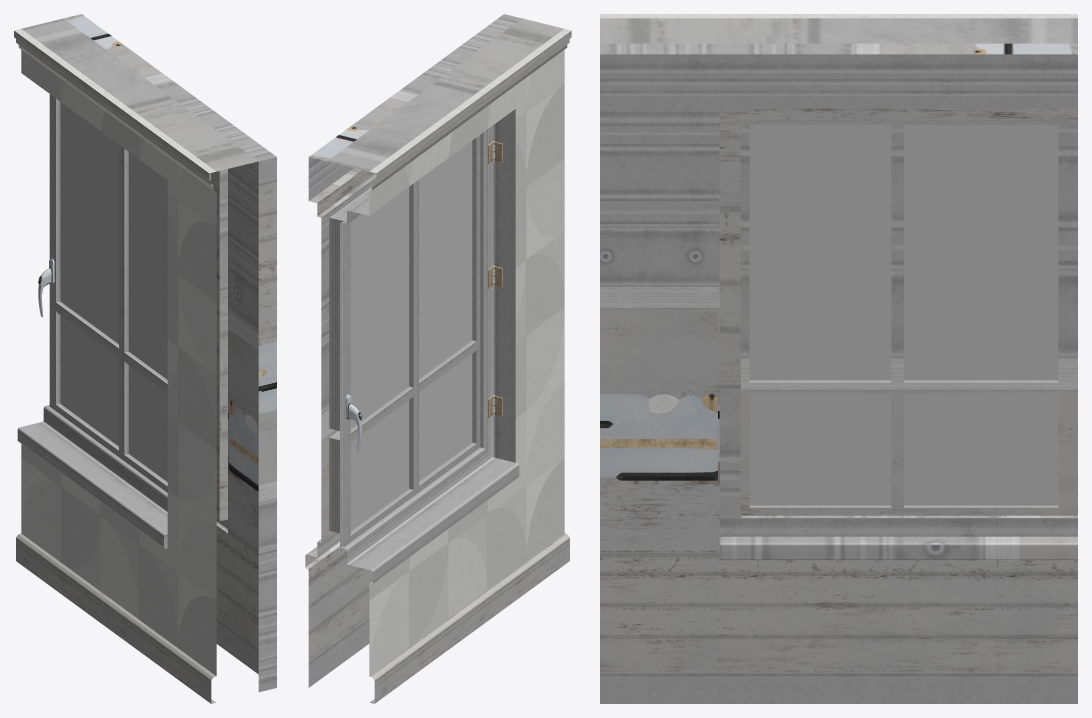
The model's file is SM_Window_Bedroom_2x3M.fbx.
The picture shows the model from 3 angles, left to right: view 1: azimuth 30°, elevation 25°; view 2: azimuth 150°, elevation 25°; view 3: azimuth 270°, elevation 25°; orthographic projection. The views are drawn at different scales.
Visible parts, largest first — view 1: SM_Window_Bedroom_2x3M_LOD0; view 2: SM_Window_Bedroom_2x3M_LOD0; view 3: SM_Window_Bedroom_2x3M_LOD0.
Part boxes in pixels (<box>): SM_Window_Bedroom_2x3M_LOD0: <box>14,14,276,703</box>; SM_Window_Bedroom_2x3M_LOD0: <box>305,14,571,703</box>; SM_Window_Bedroom_2x3M_LOD0: <box>600,14,1077,703</box>.
Size of the model in its own units: 42.13 by 200 by 300.
3 materials, 2 textured.
